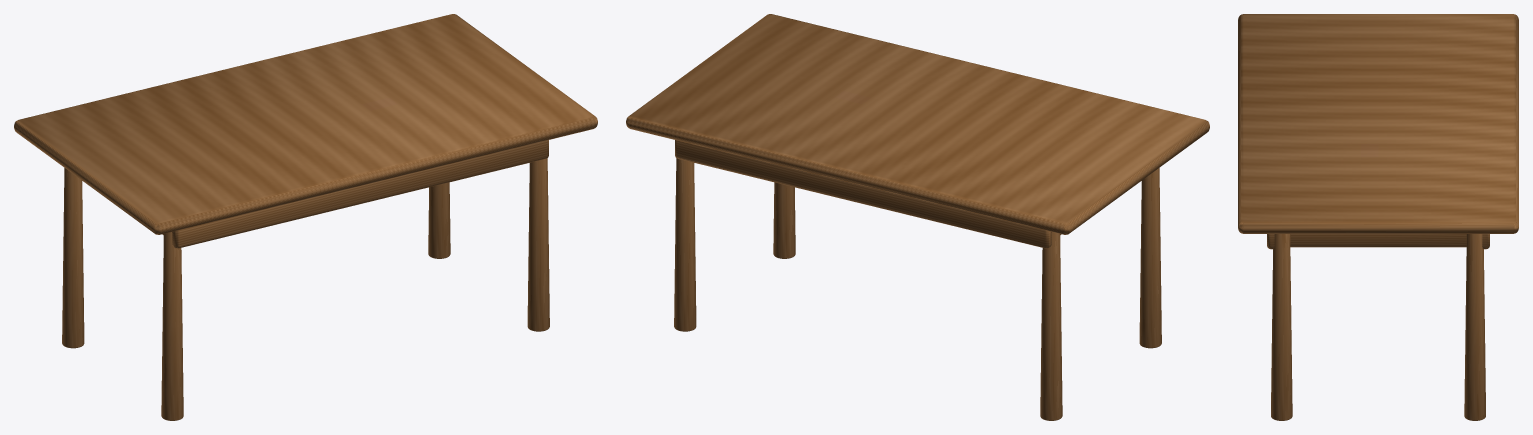
Rendered from table.glb.
The picture shows the model from 3 angles, left to right: view 1: azimuth 30°, elevation 25°; view 2: azimuth 150°, elevation 25°; view 3: azimuth 270°, elevation 25°; orthographic projection. The views are drawn at different scales.
Visible parts, largest first — view 1: table-mesh; view 2: table-mesh; view 3: table-mesh.
Boxes of the visible parts, bbox=[...] form: table-mesh: bbox=[14, 14, 597, 420]; table-mesh: bbox=[626, 14, 1209, 420]; table-mesh: bbox=[1238, 14, 1518, 420].
Bounding box in the file's own units: 1.6 × 0.75 × 0.9.
Materials: 1 (1 with a texture image).
